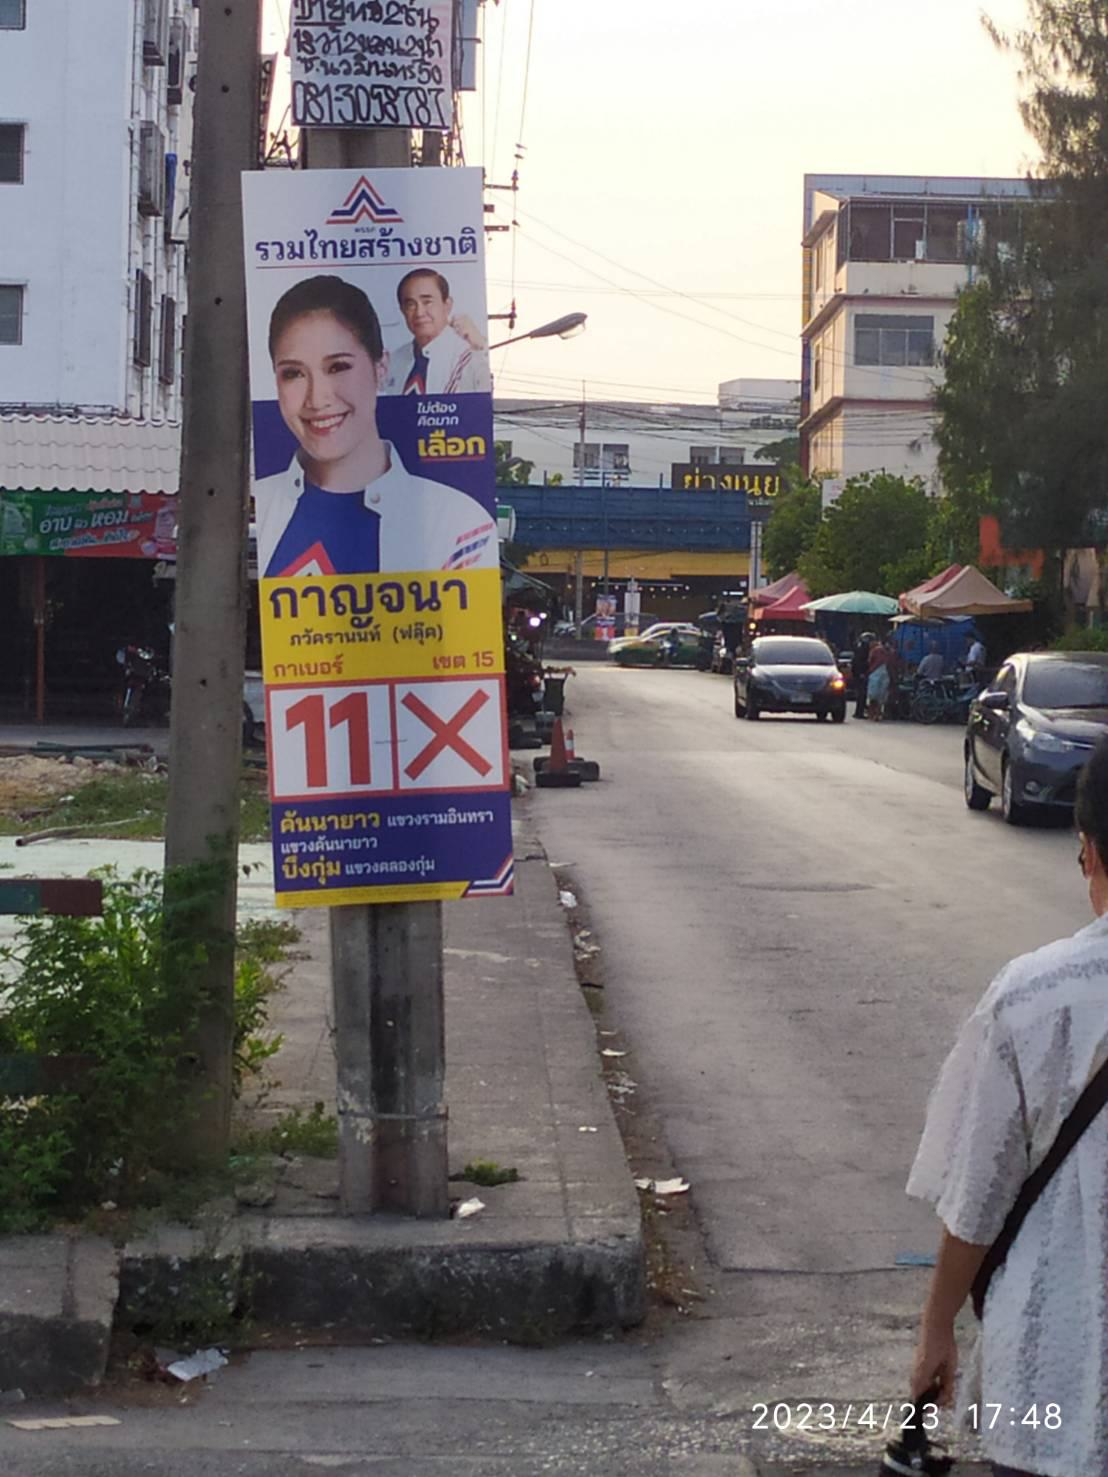Banner: (246, 168, 516, 903)
